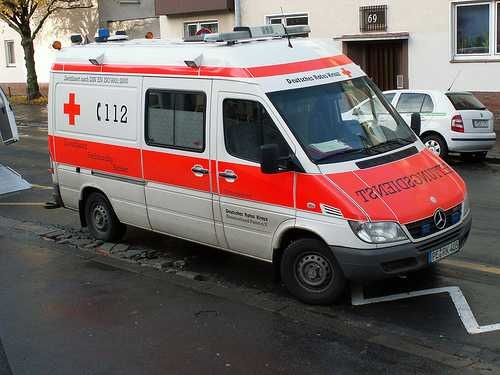Ambulance: (33, 6, 485, 288)
